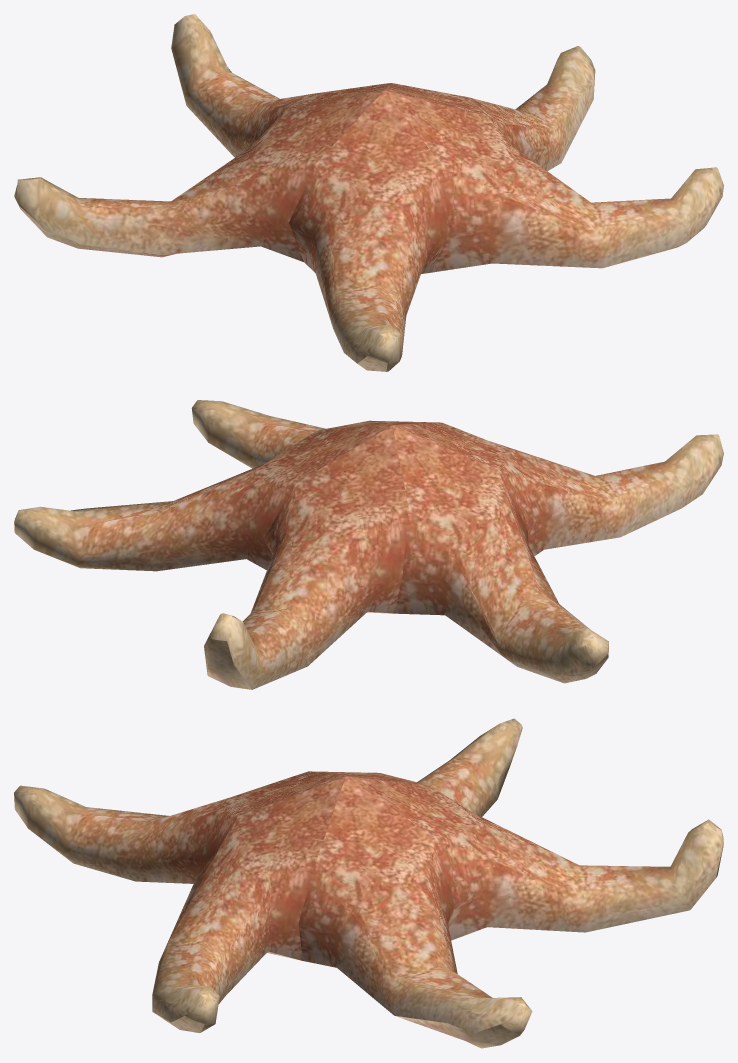
The model's file is starfish_02.glb.
3 renders of one model, top to bottom at view 1: azimuth 30°, elevation 25°; view 2: azimuth 150°, elevation 25°; view 3: azimuth 270°, elevation 25°, orthographic.
Parts seen in each view (by area): view 1: starfish_02; view 2: starfish_02; view 3: starfish_02.
Part boxes in pixels (box(x1,y1,x2,y2)): starfish_02: box(14, 14, 723, 371); starfish_02: box(14, 400, 723, 689); starfish_02: box(14, 718, 723, 1048).
Size of the model in its own units: 0.2631 by 0.0695 by 0.2767.
Materials: 1 (1 with a texture image).
